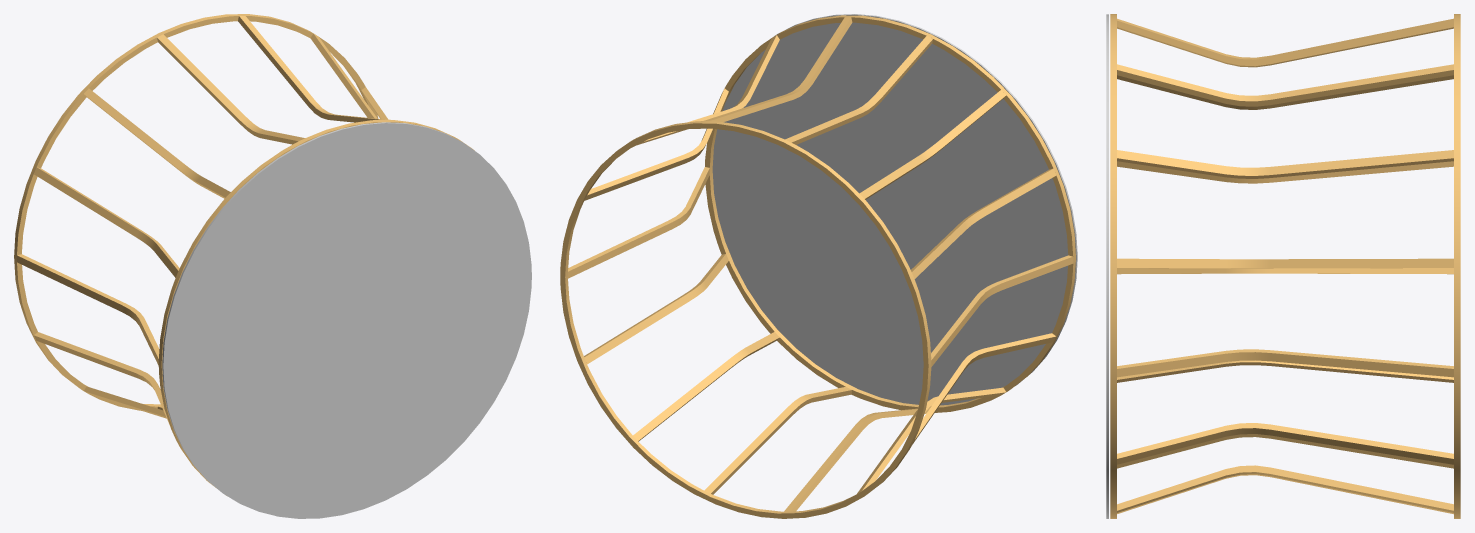
File: fgfgfff.glb
3 views of the same model, side by side, from view 1: azimuth 30°, elevation 25°; view 2: azimuth 150°, elevation 25°; view 3: azimuth 270°, elevation 25° (orthographic). The views are drawn at different scales.
Parts seen in each view (by area): view 1: mirror, polished_gold; view 2: mirror, polished_gold; view 3: polished_gold, mirror.
Part boxes in pixels (x1=…): mirror: x1=162, y1=122, x2=531, y2=518; polished_gold: x1=14, y1=14, x2=474, y2=487; mirror: x1=712, y1=14, x2=1077, y2=405; polished_gold: x1=560, y1=15, x2=1075, y2=518; polished_gold: x1=1110, y1=14, x2=1460, y2=518; mirror: x1=1106, y1=14, x2=1108, y2=518.
Bounding box in the file's own units: 0.75 × 0.7497 × 0.526.
